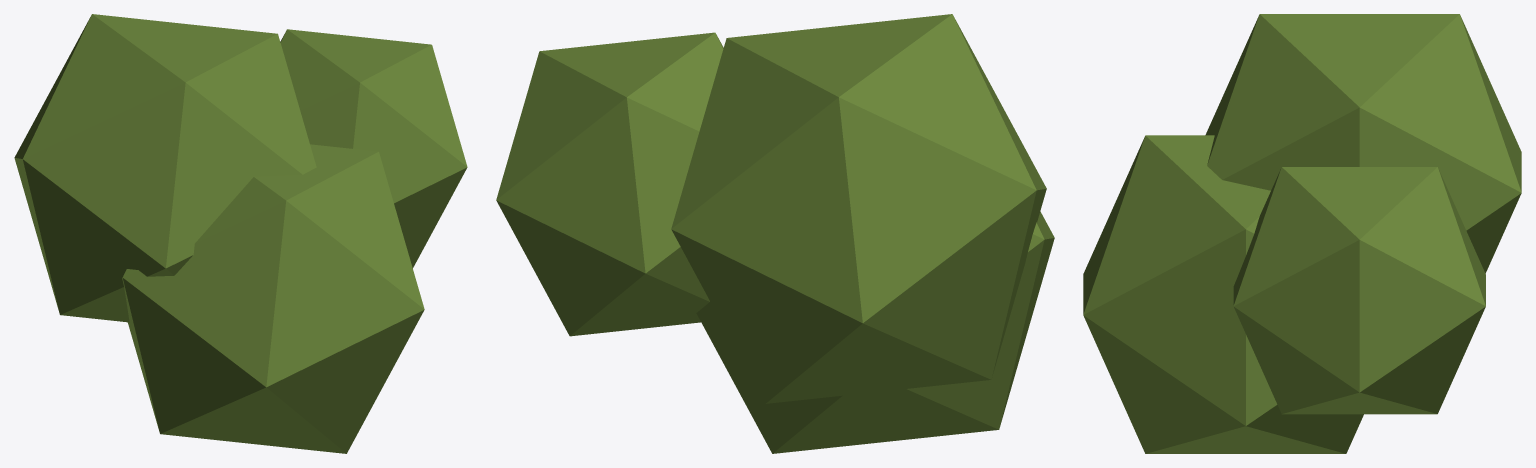
Rendered from busch_1.fbx.
3 renders of one model, left to right at view 1: azimuth 30°, elevation 25°; view 2: azimuth 150°, elevation 25°; view 3: azimuth 270°, elevation 25°, orthographic. The views are drawn at different scales.
Parts seen in each view (by area): view 1: Busch_1; view 2: Busch_1; view 3: Busch_1.
Part boxes in pixels (x1,y1,x2,y2): Busch_1: (14,14,467,453); Busch_1: (496,14,1054,453); Busch_1: (1083,14,1521,453).
Bounding box in the file's own units: 0.2555 × 0.1997 × 0.2069.
